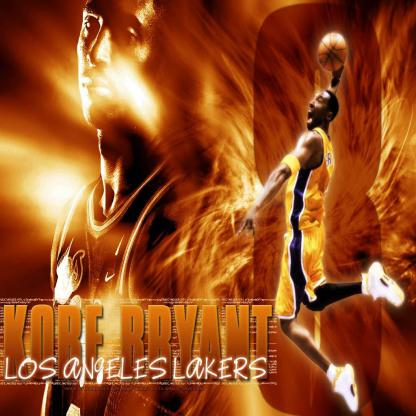face: (77, 4, 158, 128), (307, 93, 336, 130)
